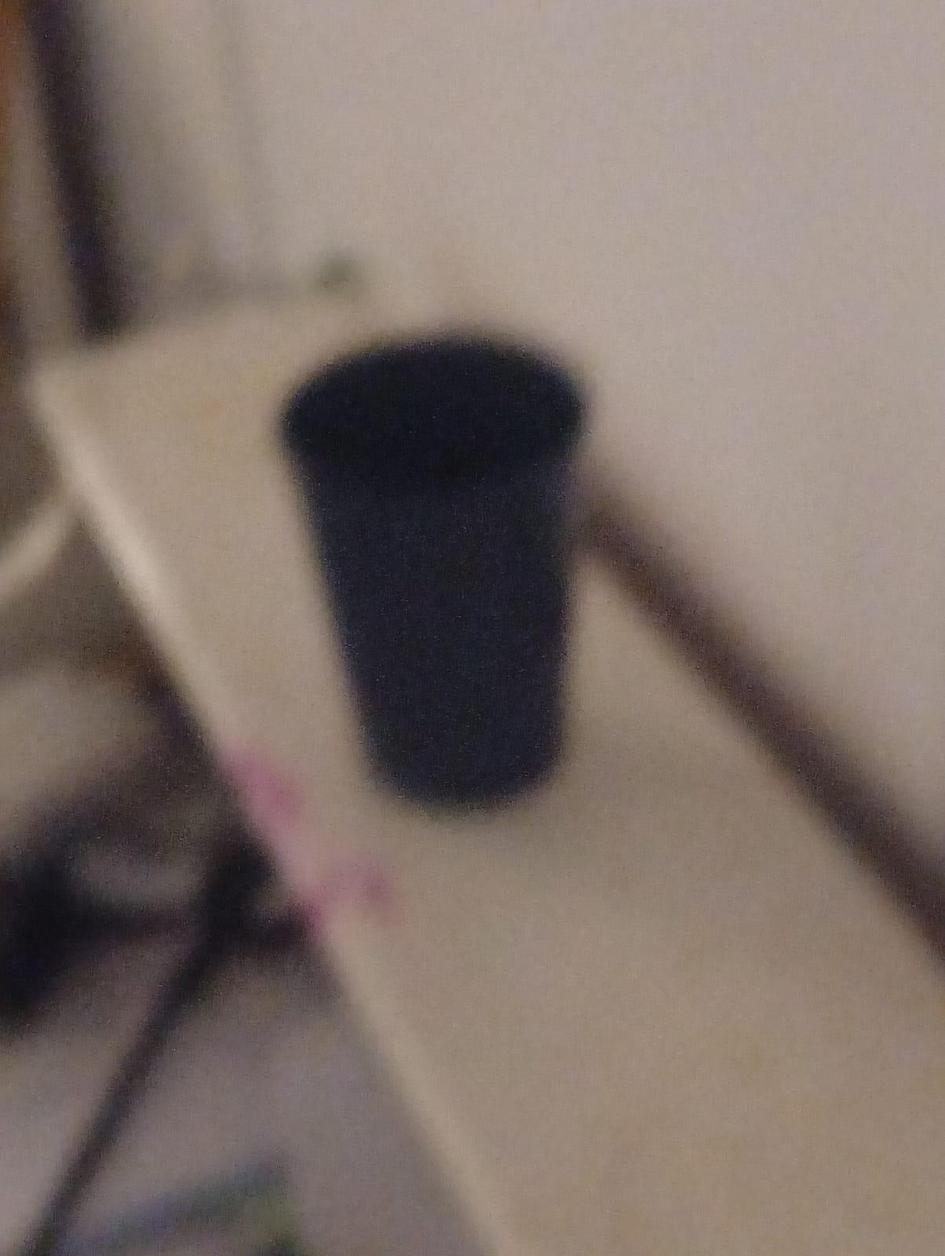cup: (281, 334, 584, 808), (279, 327, 599, 531)
